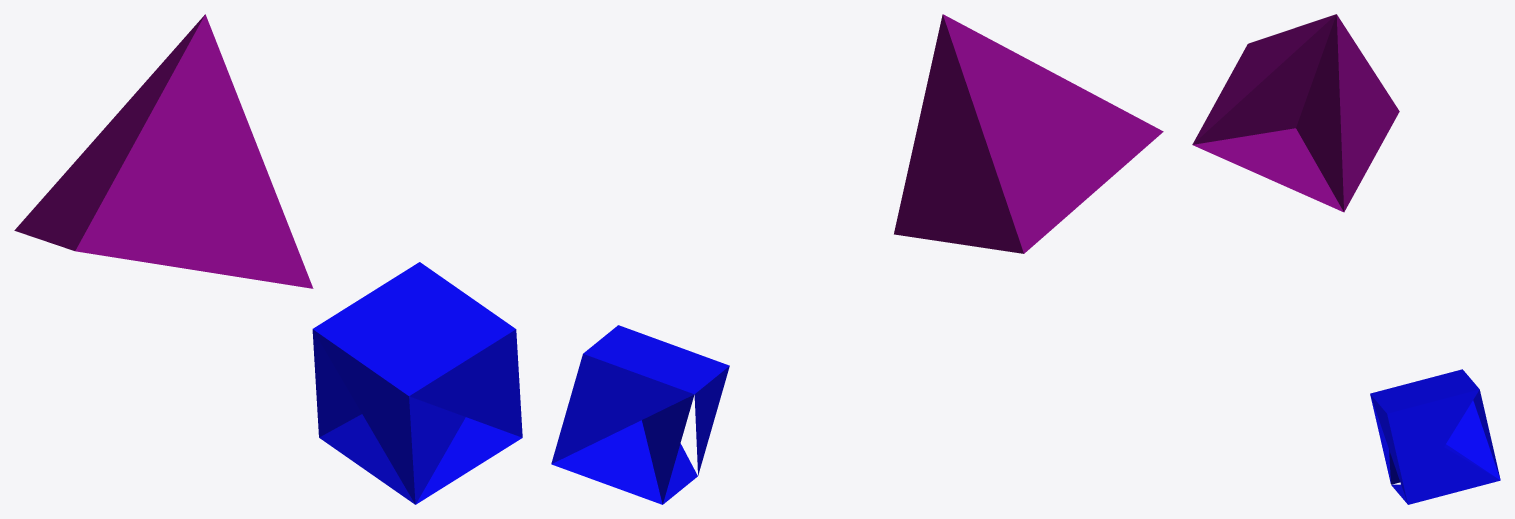
Rendered from cube_and_pyramid.obj.
3 views of the same model, side by side, from view 1: azimuth 30°, elevation 25°; view 2: azimuth 150°, elevation 25°; view 3: azimuth 270°, elevation 25° (orthographic). The views are drawn at different scales.
Visible parts, largest first — view 1: pyramid, cube; view 2: pyramid, cube; view 3: pyramid, cube.
Part boxes in pixels (left/top/right/bottom): pyramid: left=14, top=14, right=313, bottom=288; cube: left=312, top=262, right=522, bottom=504; pyramid: left=894, top=14, right=1163, bottom=253; cube: left=551, top=325, right=729, bottom=504; pyramid: left=1192, top=14, right=1399, bottom=212; cube: left=1370, top=369, right=1500, bottom=504.
Bounding box in the file's own units: 272 × 267 × 192.
